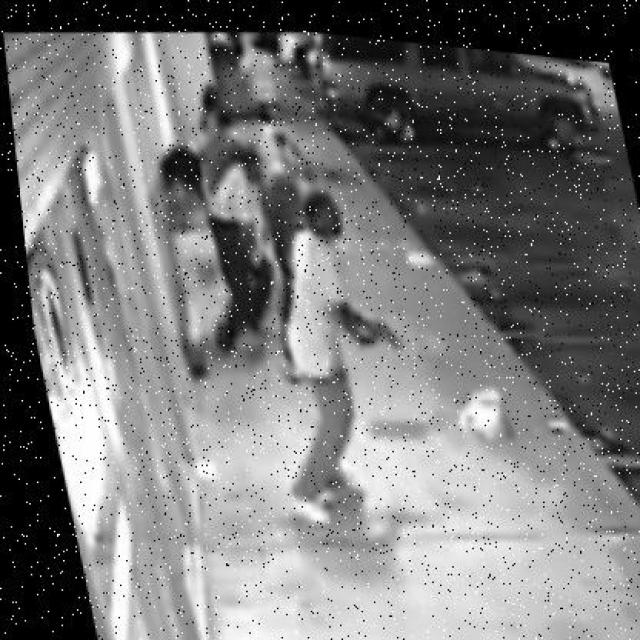weapon: (360, 321, 403, 350)
